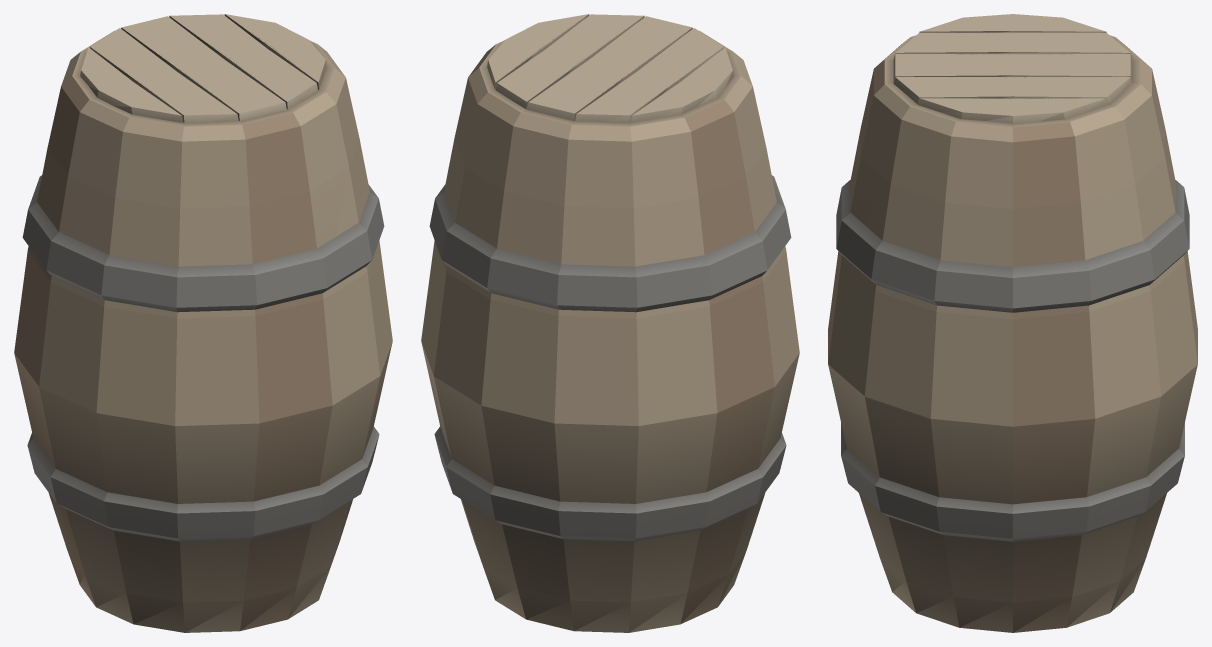
The model's file is barrel.glb.
3 renders of one model, left to right at view 1: azimuth 30°, elevation 25°; view 2: azimuth 150°, elevation 25°; view 3: azimuth 270°, elevation 25°, orthographic.
Parts seen in each view (by area): view 1: barrel; view 2: barrel; view 3: barrel.
Boxes of the visible parts, <box> form: barrel: <box>14,14,392,632</box>; barrel: <box>421,14,799,632</box>; barrel: <box>828,14,1197,632</box>.
Size of the model in its own units: 0.75 by 1.12 by 0.7312.
